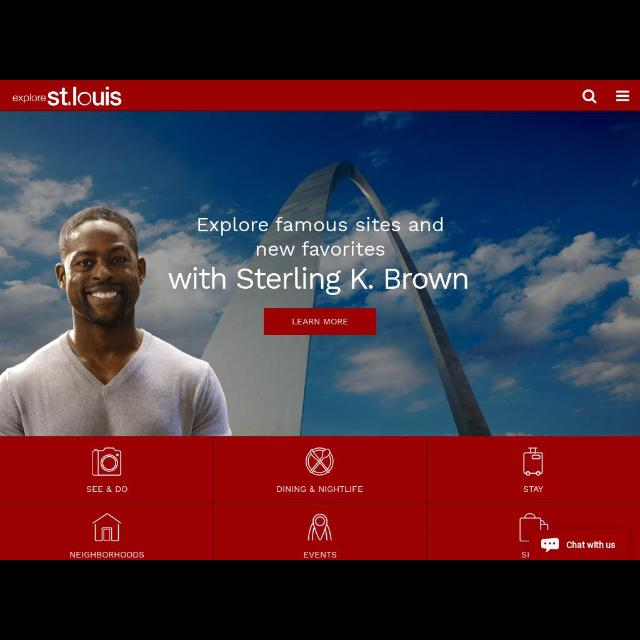backgroundimage: (1, 111, 640, 435)
icon: (91, 447, 123, 477), (304, 448, 334, 477), (520, 512, 548, 542), (93, 514, 121, 542), (307, 514, 333, 542), (522, 447, 544, 477), (540, 537, 560, 553), (582, 88, 598, 105), (616, 89, 630, 103)
text: (198, 216, 444, 258), (167, 266, 471, 298), (9, 86, 122, 108), (276, 484, 364, 494), (70, 551, 144, 559), (566, 540, 616, 550), (86, 484, 128, 494), (303, 551, 337, 559), (524, 485, 544, 493), (521, 552, 527, 558)
textbutton: (529, 530, 627, 560), (264, 308, 376, 334)
toolbar: (1, 80, 640, 112)
